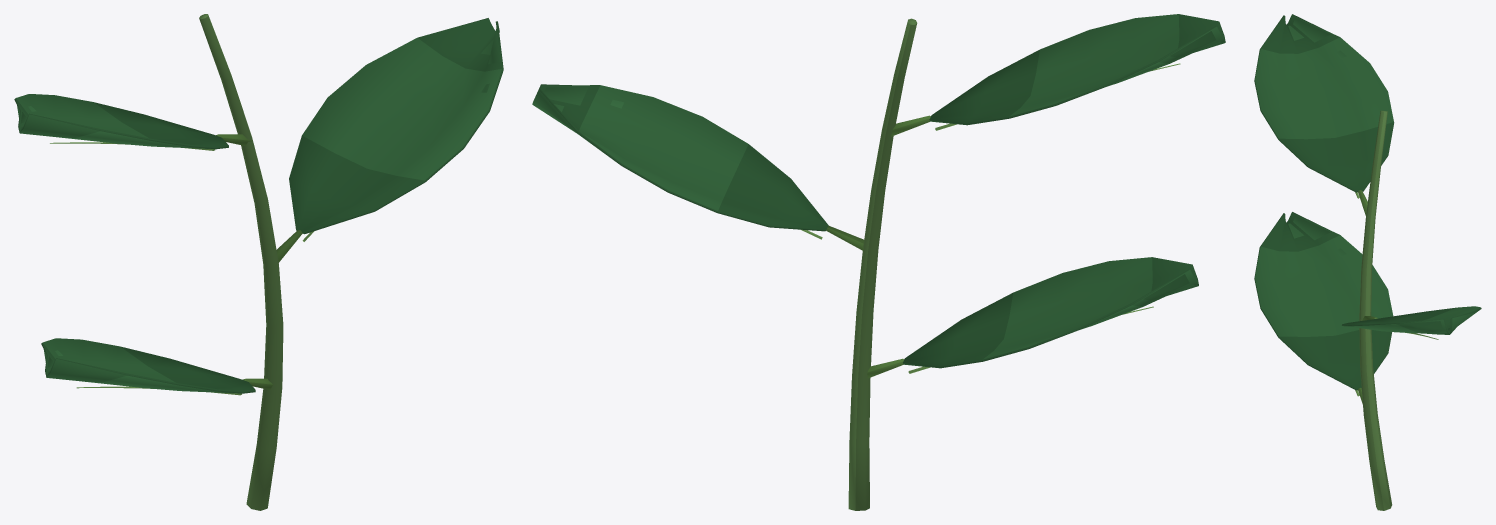
File: garden-orchid-bud-stem-0.glb
3 views of the same model, side by side, from view 1: azimuth 30°, elevation 25°; view 2: azimuth 150°, elevation 25°; view 3: azimuth 270°, elevation 25° (orthographic). The views are drawn at different scales.
Parts seen in each view (by area): view 1: orchid-bud-stem-0; view 2: orchid-bud-stem-0; view 3: orchid-bud-stem-0.
Part boxes in pixels (x1,y1,x2,y2): orchid-bud-stem-0: (14,14,503,510); orchid-bud-stem-0: (532,14,1225,510); orchid-bud-stem-0: (1254,14,1481,510).
Bounding box in the file's own units: 0.4247 × 0.3546 × 0.1899.
